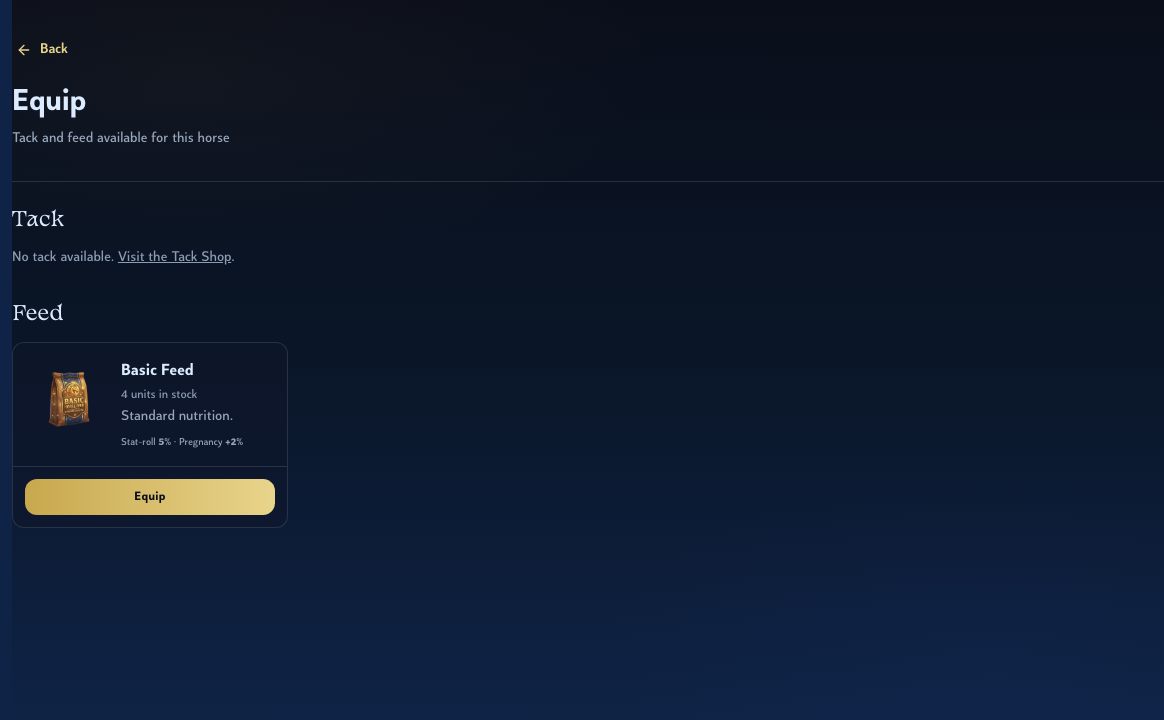
Test: HorseEquipPage — failed equip (Equoria-mr1kq) › shows mapped copy for a refusal
Click the button with test id "equip-feed-basic": (150, 497) [25,479,275,515]
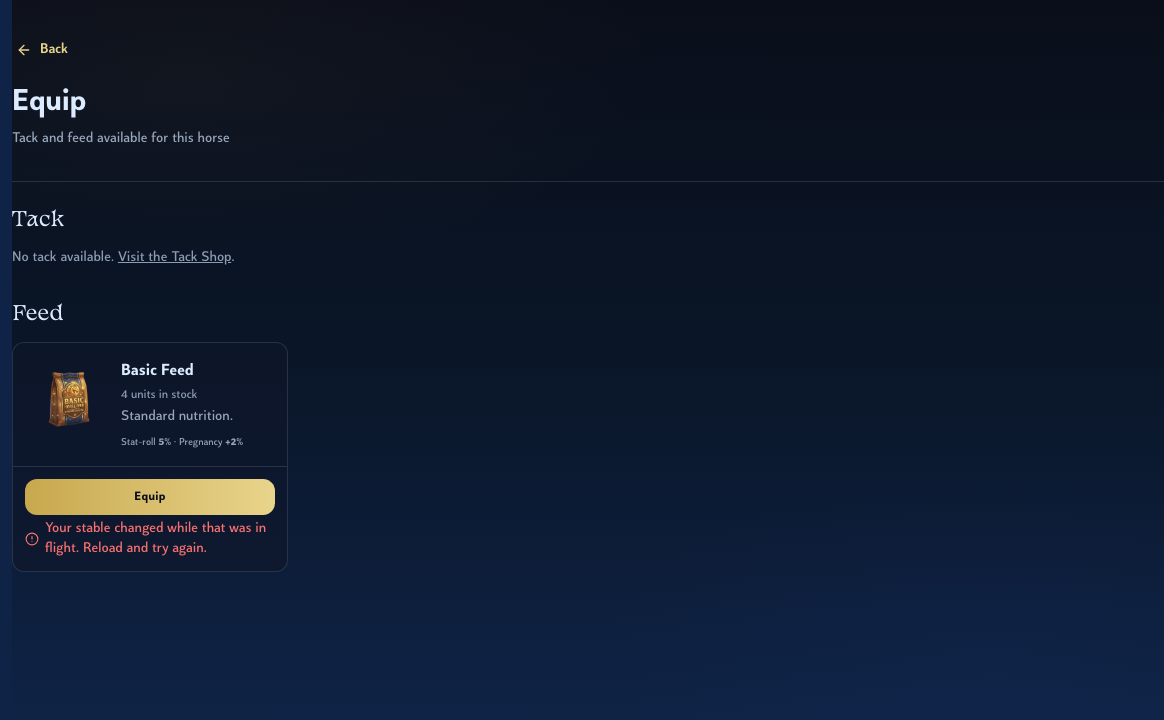
Expected: the text "Your stable changed while that was in flight. Reload and try again." is shown, [45,519,275,559]
